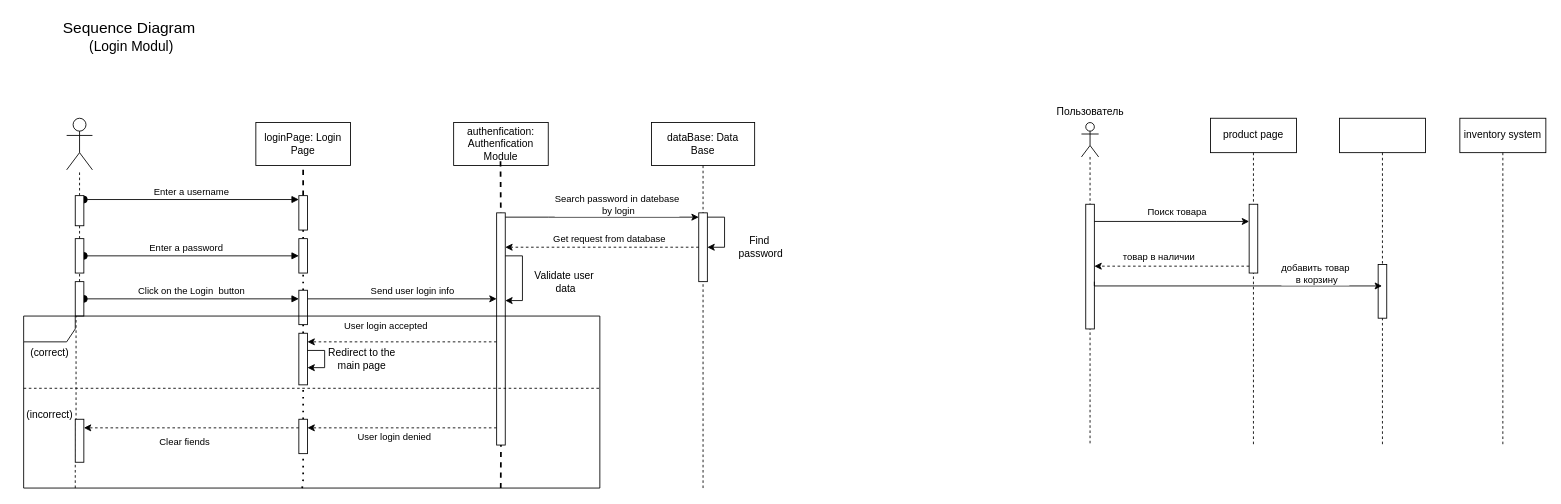
Some shapes in this 1561 by 504 pixel diagram are drawn without their labels. Here are the shapes that lost their labels. From the top down, the box of each, then its label:
(66, 117, 92, 170): User
(1339, 117, 1425, 445): shoping cart
(23, 315, 600, 488): alt
